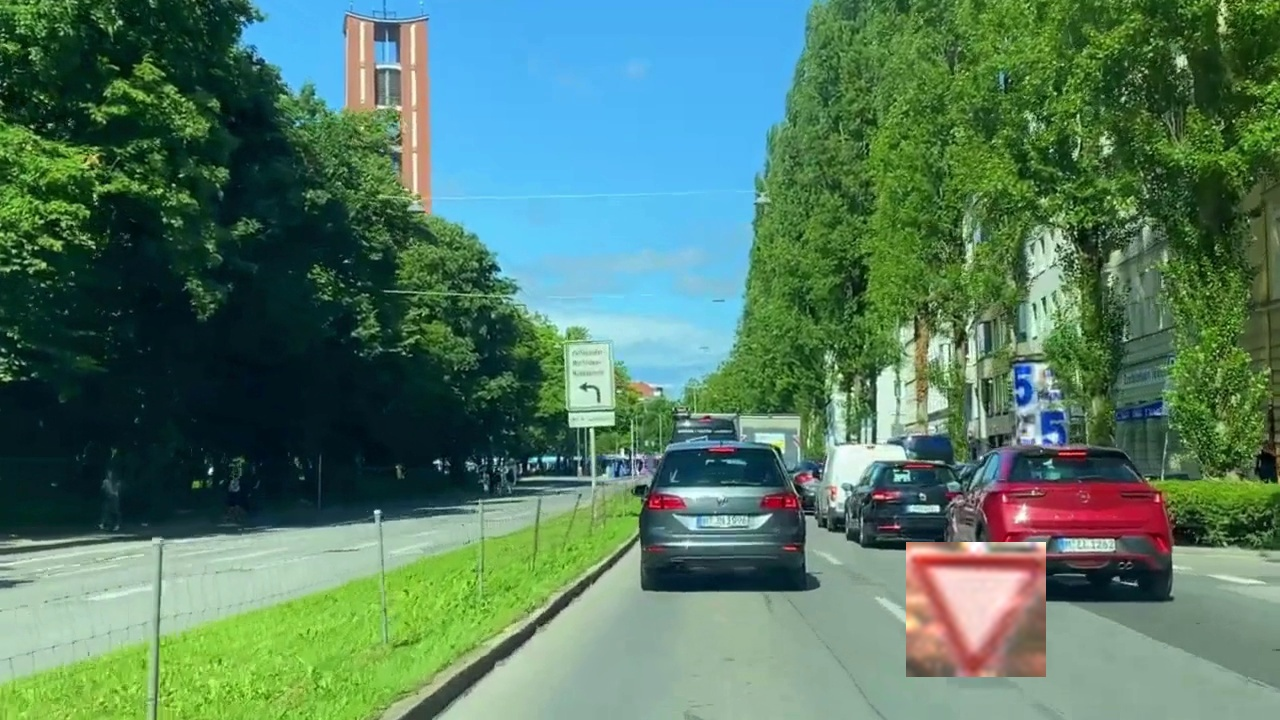Yield: (906, 542, 1046, 677)
